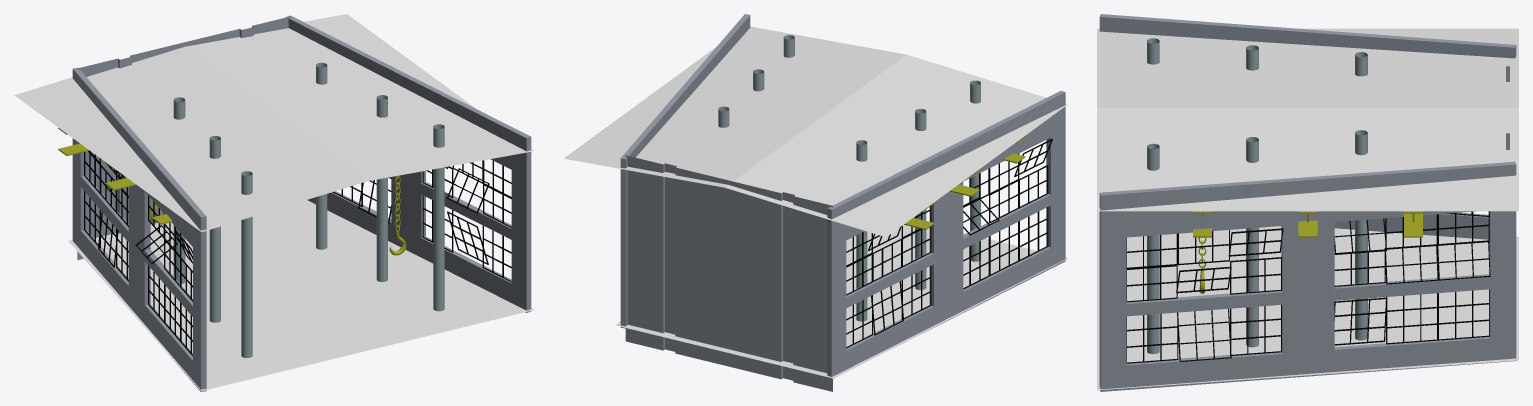
File: LibertyBellEnvironment_UVED.fbx
The picture shows the model from 3 angles, left to right: view 1: azimuth 30°, elevation 25°; view 2: azimuth 150°, elevation 25°; view 3: azimuth 270°, elevation 25°; orthographic projection. The views are drawn at different scales.
Parts seen in each view (by area): view 1: pCube23, Floor, Wall (×2), pCylinder4 (×2), BackWall, pCylinder6 (×2), pCylinder5 (×2), pCube20; view 2: pCube23, BackWall, Wall (×2), Floor, pCylinder5, pCylinder4, pCylinder6, pCube5, pCube22, pCube20; view 3: pCube23, Wall (×2), Floor, pCylinder4, pCylinder5, pCylinder6, pCube7, pCube21, pCube20, pCube6, pCube22, pCube5 (+12 smaller).
Part boxes in pixels (bbox=[...]): pCube23: bbox=[14, 14, 533, 232]; Floor: bbox=[68, 200, 534, 391]; Wall (×2): bbox=[72, 15, 531, 391]; pCylinder4 (×2): bbox=[241, 124, 444, 357]; BackWall: bbox=[77, 16, 290, 260]; pCylinder6 (×2): bbox=[209, 95, 387, 322]; pCylinder5 (×2): bbox=[173, 62, 327, 283]; pCube20: bbox=[447, 211, 488, 264]; pCube23: bbox=[564, 26, 1067, 237]; BackWall: bbox=[625, 155, 832, 391]; Wall (×2): bbox=[620, 14, 1065, 379]; Floor: bbox=[616, 225, 1068, 378]; pCylinder5: bbox=[856, 140, 867, 321]; pCylinder4: bbox=[970, 80, 980, 261]; pCylinder6: bbox=[915, 109, 926, 290]; pCube5: bbox=[1019, 207, 1048, 261]; pCube22: bbox=[901, 266, 931, 320]; pCube20: bbox=[871, 281, 903, 335]; pCube23: bbox=[1097, 28, 1518, 211]; Wall (×2): bbox=[1099, 14, 1516, 391]; Floor: bbox=[1097, 211, 1518, 390]; pCylinder4: bbox=[1147, 143, 1159, 354]; pCylinder5: bbox=[1355, 130, 1367, 340]; pCylinder6: bbox=[1246, 137, 1258, 347]; pCube7: bbox=[1334, 297, 1386, 345]; pCube21: bbox=[1126, 312, 1178, 363]; pCube20: bbox=[1177, 308, 1231, 361]; pCube6: bbox=[1386, 293, 1437, 344]; pCube22: bbox=[1230, 305, 1281, 355]; pCube5: bbox=[1438, 289, 1489, 340].
Bounding box in the file's own units: 2000 × 1146 × 1946.
